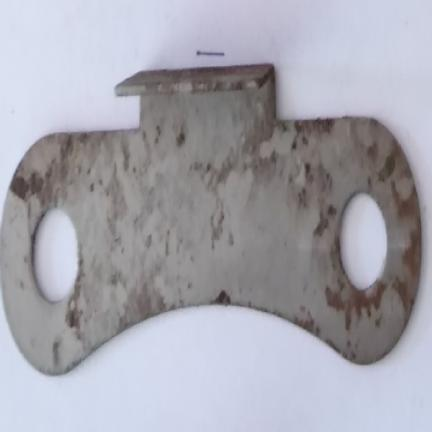besi_tidak_karat: (0, 64, 422, 375)
